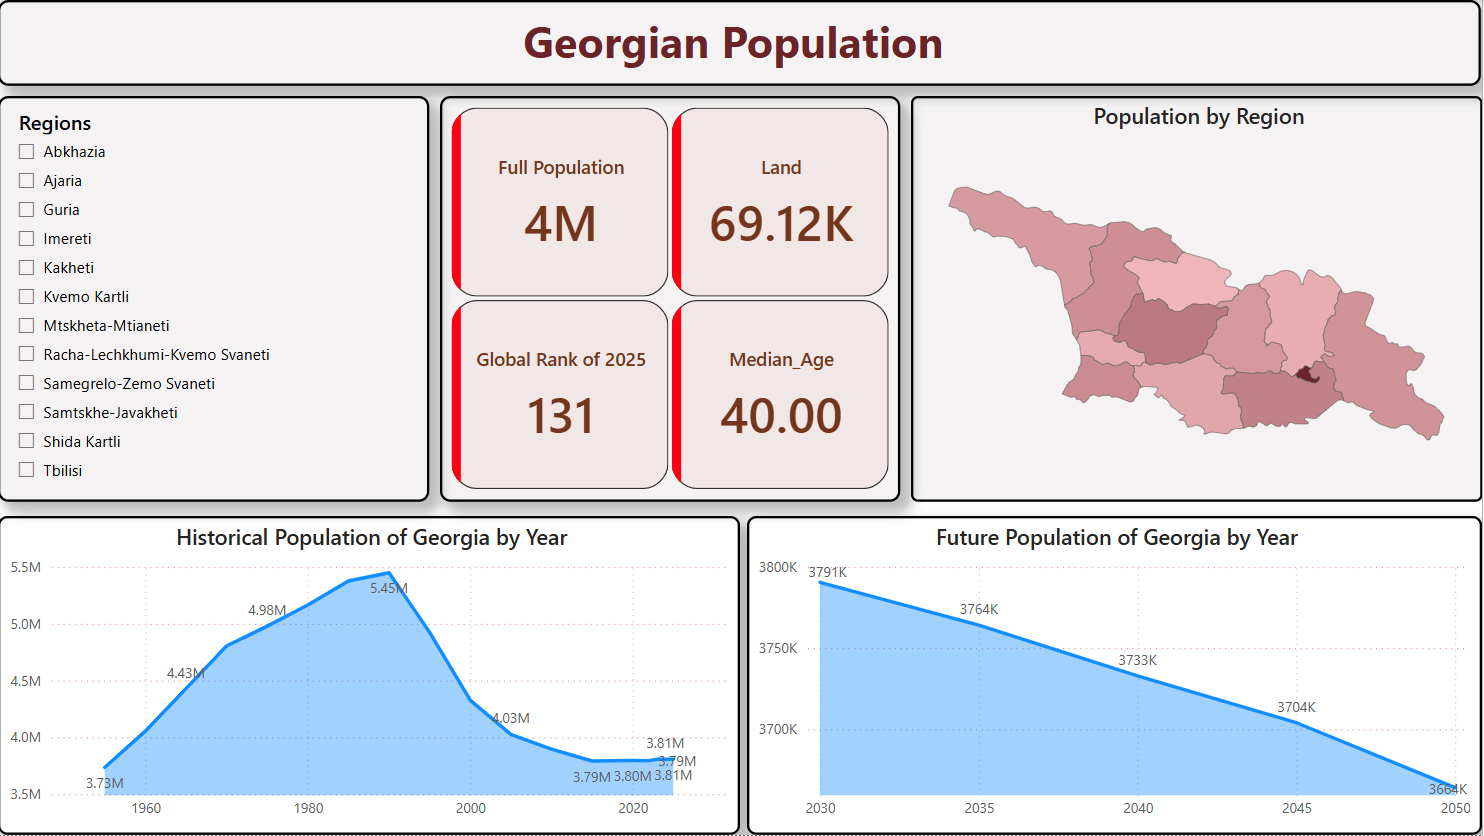

The dashboard page shown, as its layout file describes it:
{"tool":"powerbi","page":{"name":"Page 1","canvas":[1280,720],"ordinal":0},"visuals":[{"type":"shapeMap","title":" Population by Region","fields":{"Value":["Sum(georgian_population.population)"],"Category":["georgian_population.region_name"]},"box":[787.5,83,492.5,350.3],"z":0},{"type":"areaChart","title":"Historical Population of Georgia by Year","fields":{"Y":["Sum(georgia_historical_df.Population)"],"Category":["georgia_historical_df.Year"]},"box":[0,444.8,640.5,274.9],"z":1},{"type":"areaChart","title":"Future Population of Georgia by Year","fields":{"Category":["georgia_population_df.Year"],"Y":["Sum(georgia_population_df.Population)"]},"box":[646.2,444.8,633.8,274.9],"z":2},{"type":"cardVisual","fields":{"Data":["georgian_population.Population_measure","georgian_population.Land Measure1","georgia_historical_df.Global Rank of 2025","georgia_population_df.Median_Age"]},"box":[380.9,83,397.1,350.3],"z":3},{"type":"textbox","box":[0,0,1279,74.5],"z":4},{"type":"slicer","fields":{"Values":["georgian_population.region_name"]},"box":[0,83,372.3,350.3],"z":5}]}

Visuals, with their boxes in screenshot pixels (x1, y1, x2, y2), scaled from the page's 1280x720 canvas onto the 1484x836 screenshot:
" Population by Region" shapeMap: <region>913, 96, 1483, 503</region>
"Historical Population of Georgia by Year" areaChart: <region>0, 516, 743, 835</region>
"Future Population of Georgia by Year" areaChart: <region>749, 516, 1483, 835</region>
cardVisual - georgian_population.Population_measure x georgian_population.Land Measure1: <region>442, 96, 902, 503</region>
textbox: <region>0, 0, 1483, 87</region>
slicer - georgian_population.region_name: <region>0, 96, 432, 503</region>
